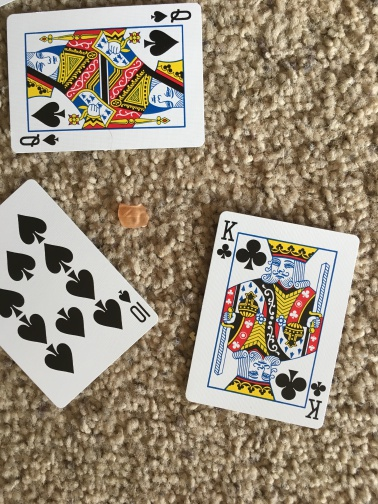king: (182, 209, 360, 427)
queen: (4, 2, 206, 153)
ten: (1, 178, 161, 410)
